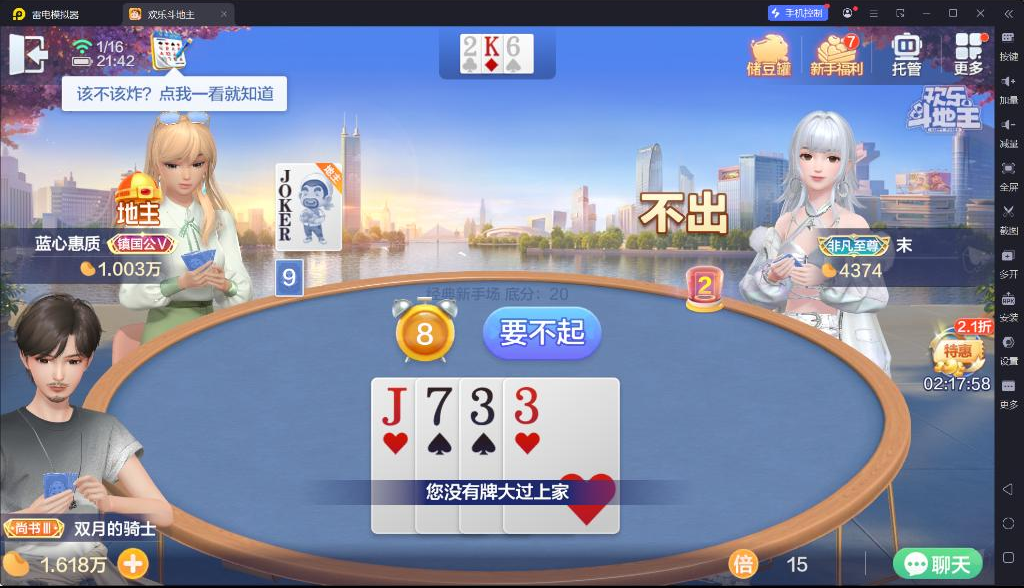J: (380, 384, 409, 428)
K: (483, 35, 500, 57)
joker: (276, 168, 293, 216)
seven: (424, 384, 454, 427)
six: (505, 35, 521, 57)
three: (466, 383, 497, 429), (508, 384, 541, 427)
two: (462, 35, 479, 58)
